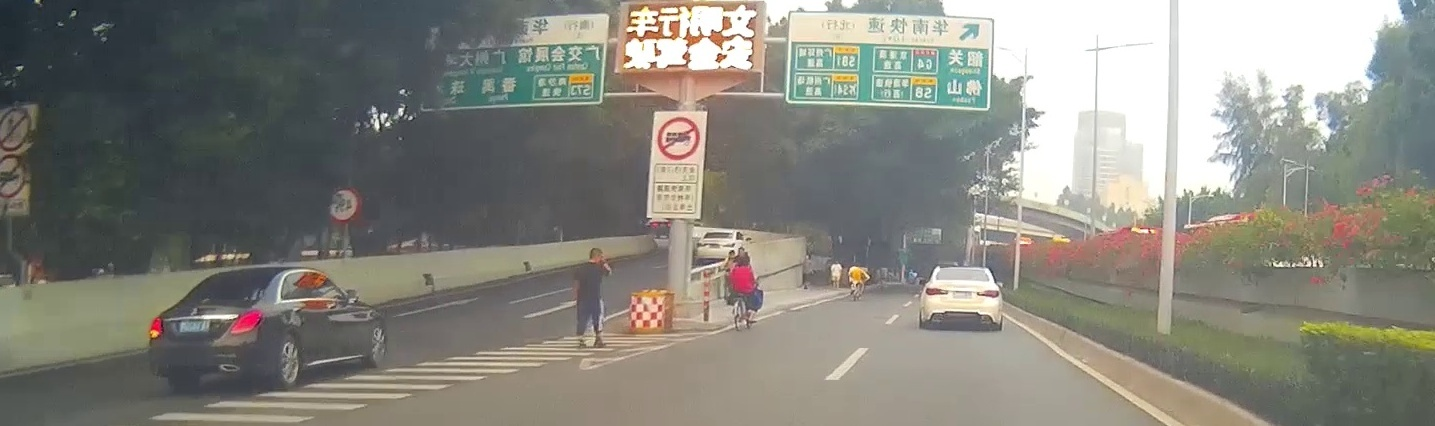L_light: (149, 317, 164, 338), (926, 288, 949, 295)
R_light: (230, 309, 261, 334), (977, 289, 1000, 298)
T_light: (235, 273, 250, 279), (958, 268, 969, 272)
day-left: (148, 266, 279, 392)
day-no: (920, 266, 1002, 330)
